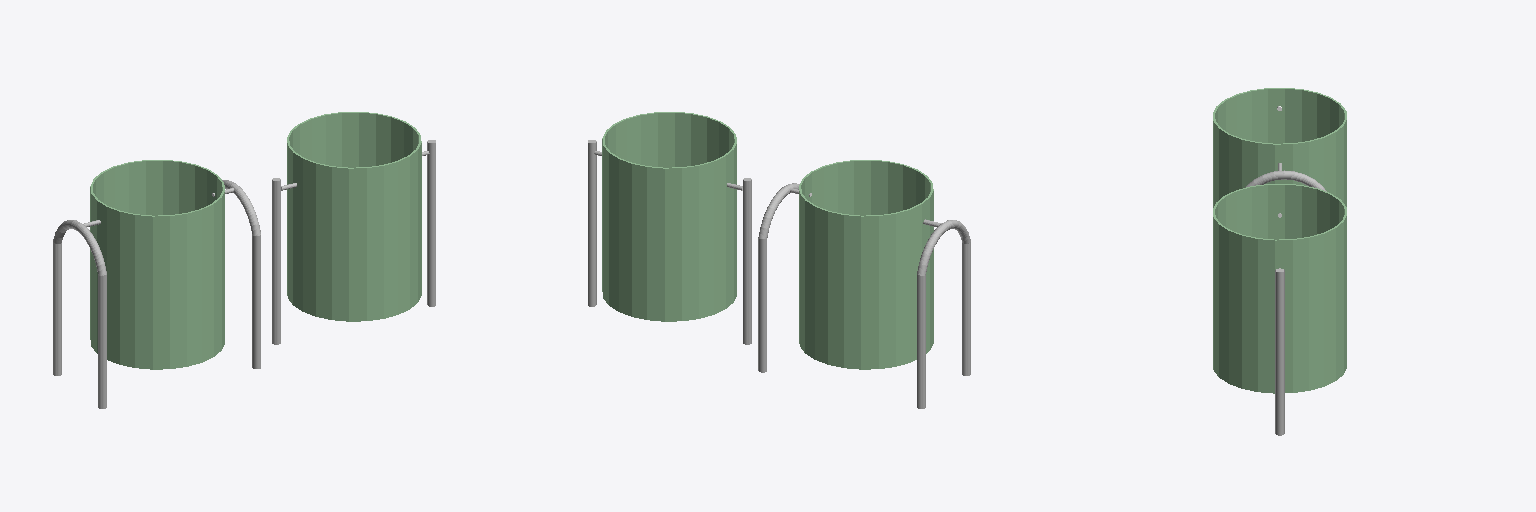
The picture shows the model from 3 angles: view 1: azimuth 30°, elevation 25°; view 2: azimuth 150°, elevation 25°; view 3: azimuth 270°, elevation 25°; orthographic projection.
Visible parts, largest first — view 1: Mesh1 Model, Mesh7 Model, Mesh8 Model, Mesh10 Model, Mesh3 Model, Mesh2 Model; view 2: Mesh1 Model, Mesh7 Model, Mesh8 Model, Mesh10 Model, Mesh3 Model, Mesh2 Model; view 3: Mesh1 Model, Mesh7 Model, Mesh2 Model, Mesh10 Model.
Part boxes in pixels (bbox=[...]): Mesh1 Model: bbox=[287, 112, 421, 321]; Mesh7 Model: bbox=[90, 160, 224, 369]; Mesh8 Model: bbox=[53, 220, 106, 408]; Mesh10 Model: bbox=[222, 180, 260, 368]; Mesh3 Model: bbox=[272, 178, 280, 344]; Mesh2 Model: bbox=[427, 140, 435, 306]; Mesh1 Model: bbox=[602, 112, 736, 321]; Mesh7 Model: bbox=[799, 160, 933, 369]; Mesh8 Model: bbox=[917, 220, 970, 408]; Mesh10 Model: bbox=[758, 183, 799, 372]; Mesh3 Model: bbox=[743, 178, 751, 344]; Mesh2 Model: bbox=[588, 140, 596, 306]; Mesh1 Model: bbox=[1213, 184, 1346, 393]; Mesh7 Model: bbox=[1213, 88, 1346, 207]; Mesh2 Model: bbox=[1275, 268, 1284, 435]; Mesh10 Model: bbox=[1245, 170, 1326, 191].
Size of the model in its own units: 1.84 by 0.9 by 0.5983.
3 materials, 1 textured.